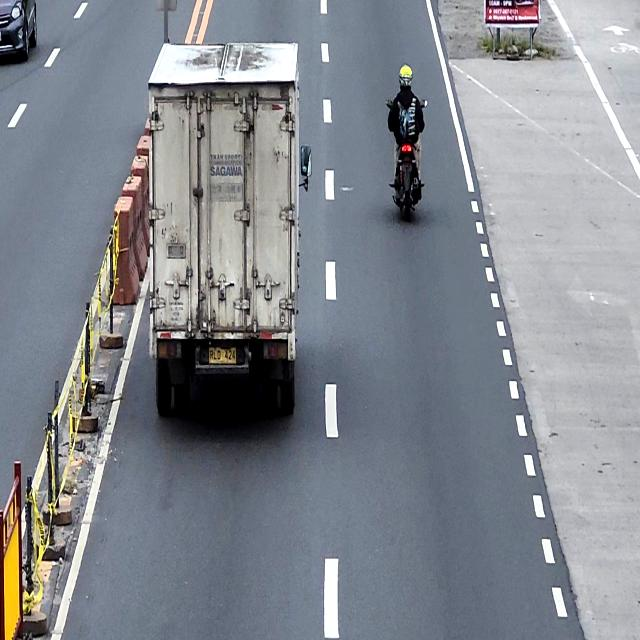Car: (0, 0, 37, 62)
License-Plate: (208, 344, 238, 365)
Motorcycle: (386, 97, 428, 221)
Truck: (146, 40, 311, 417)
